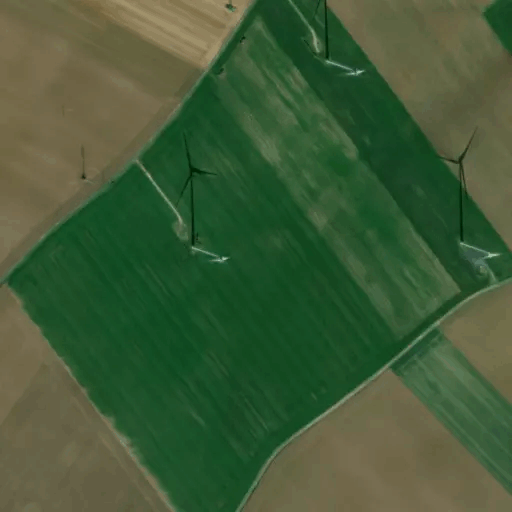wt: (425, 117, 498, 264), (172, 132, 234, 268), (304, 1, 373, 78)
